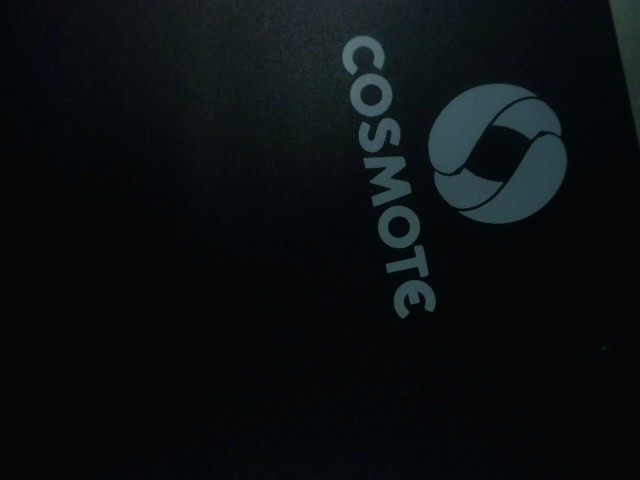AU_COSMOTE: (333, 30, 578, 328)
